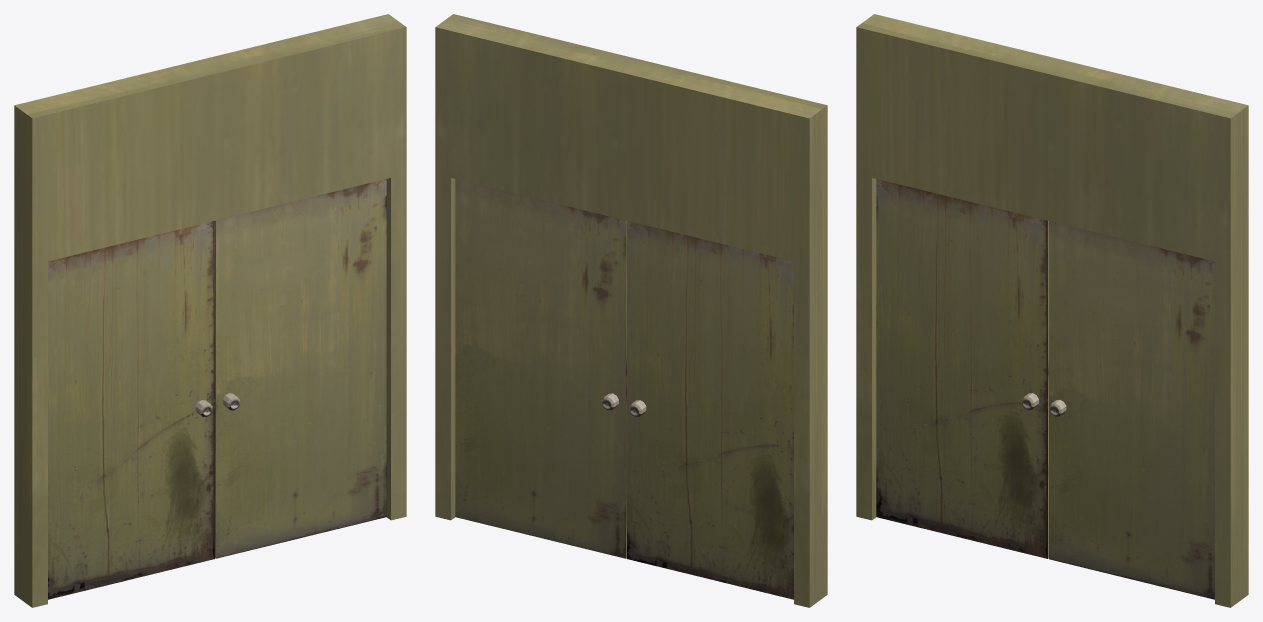
The model's file is iron_door.glb.
3 renders of one model, left to right at view 1: azimuth 30°, elevation 25°; view 2: azimuth 150°, elevation 25°; view 3: azimuth 330°, elevation 25°, orthographic.
Parts seen in each view (by area): view 1: 큐브.049, 큐브.048, 큐브.047; view 2: 큐브.049, 큐브.048, 큐브.047; view 3: 큐브.049, 큐브.047, 큐브.048.
Boxes of the visible parts, bbox=[...] form: 큐브.049: bbox=[14, 14, 406, 607]; 큐브.048: bbox=[215, 179, 386, 558]; 큐브.047: bbox=[48, 221, 214, 599]; 큐브.049: bbox=[435, 14, 827, 607]; 큐브.048: bbox=[455, 179, 626, 558]; 큐브.047: bbox=[627, 221, 793, 599]; 큐브.049: bbox=[856, 14, 1248, 607]; 큐브.047: bbox=[876, 179, 1048, 558]; 큐브.048: bbox=[1049, 221, 1214, 599].
Bounding box in the file's own units: 2.4 × 3 × 0.2511.
1 material, 1 textured.
